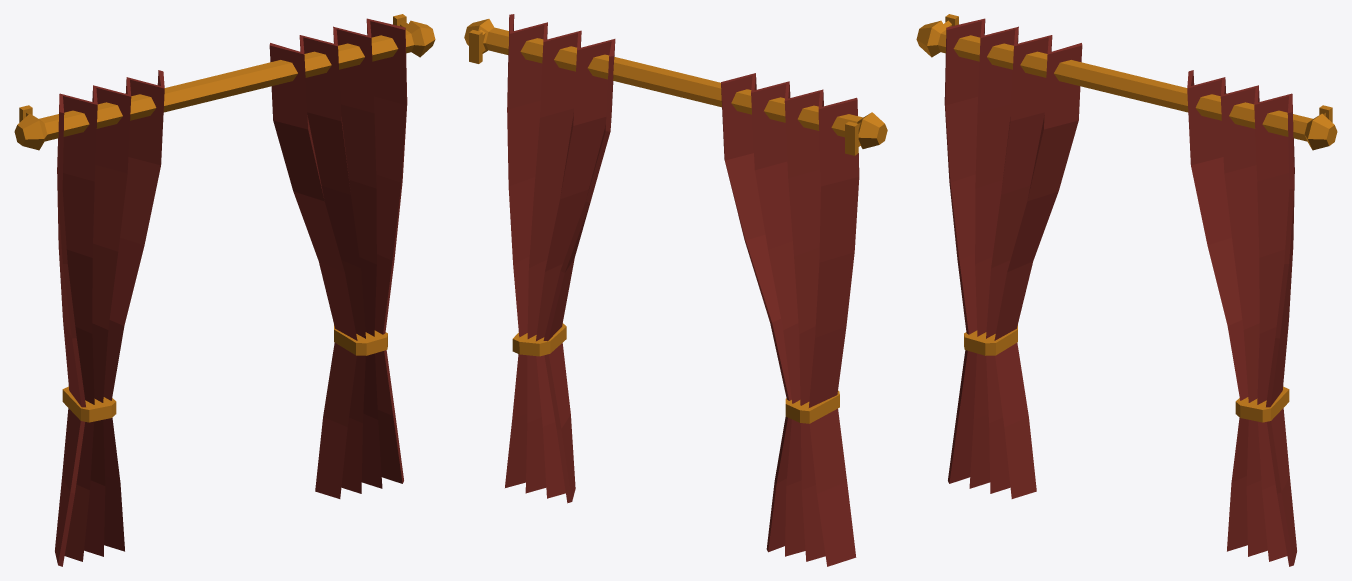
Rendered from SingleCurtains.fbx.
The picture shows the model from 3 angles, left to right: view 1: azimuth 30°, elevation 25°; view 2: azimuth 150°, elevation 25°; view 3: azimuth 330°, elevation 25°; orthographic projection.
Parts seen in each view (by area): view 1: SingleCurtains; view 2: SingleCurtains; view 3: SingleCurtains.
Part boxes in pixels (x1,y1,x2,y2): SingleCurtains: (14, 14, 435, 566); SingleCurtains: (464, 14, 887, 566); SingleCurtains: (916, 14, 1337, 566).
Size of the model in its own units: 387 by 411 by 49.62.
